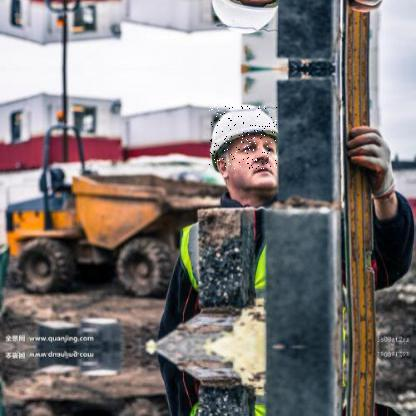safetyhelmet: (209, 106, 278, 170)
